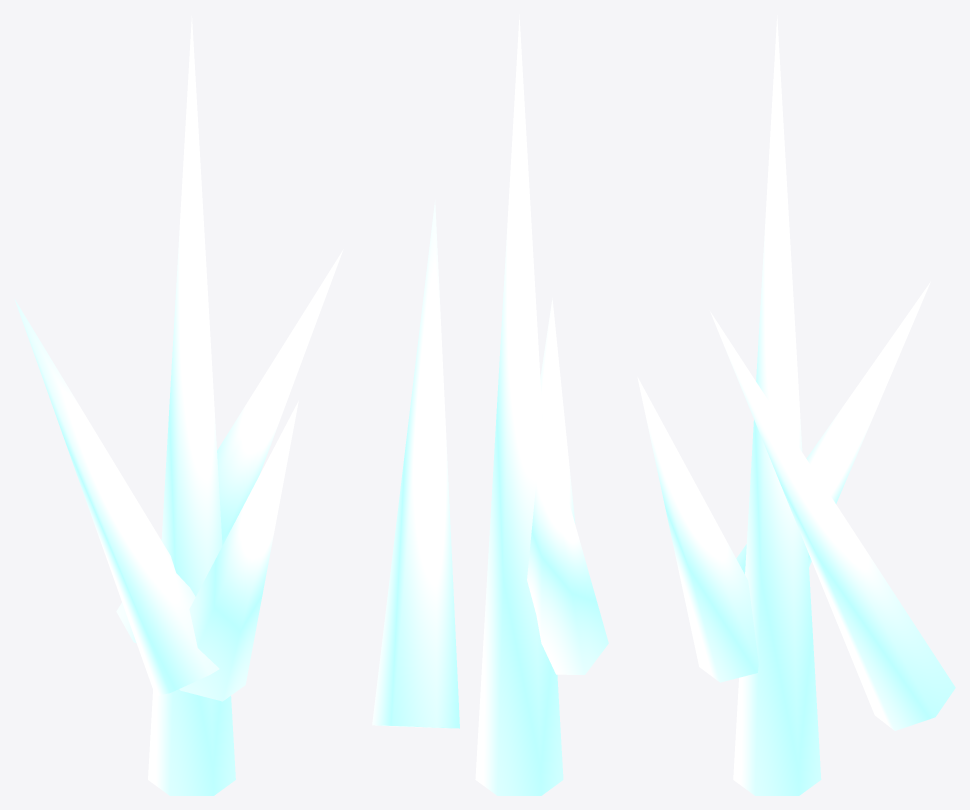
Rendered from crystal.glb.
3 renders of one model, left to right at view 1: azimuth 30°, elevation 25°; view 2: azimuth 150°, elevation 25°; view 3: azimuth 270°, elevation 25°, orthographic.
Visible parts, largest first — view 1: crystal; view 2: crystal; view 3: crystal.
Boxes of the visible parts, bbox=[...] form: crystal: bbox=[14, 16, 343, 795]; crystal: bbox=[372, 14, 608, 795]; crystal: bbox=[637, 15, 955, 795].
Size of the model in its own units: 1.44 by 4.8 by 1.81.
